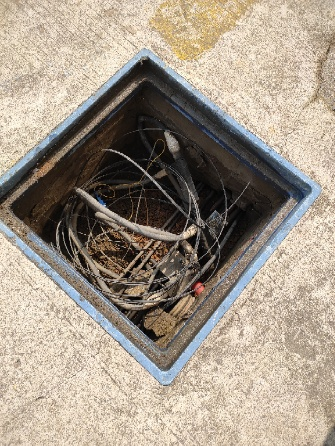lose: (1, 49, 323, 386)
